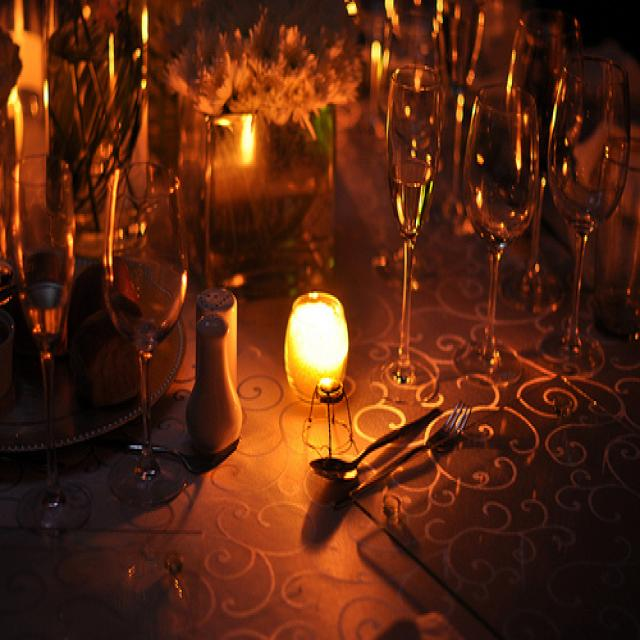Cup: (12, 138, 87, 525), (553, 48, 632, 373), (465, 68, 541, 393), (119, 156, 190, 486), (388, 42, 448, 400)
Table: (0, 72, 640, 640)
